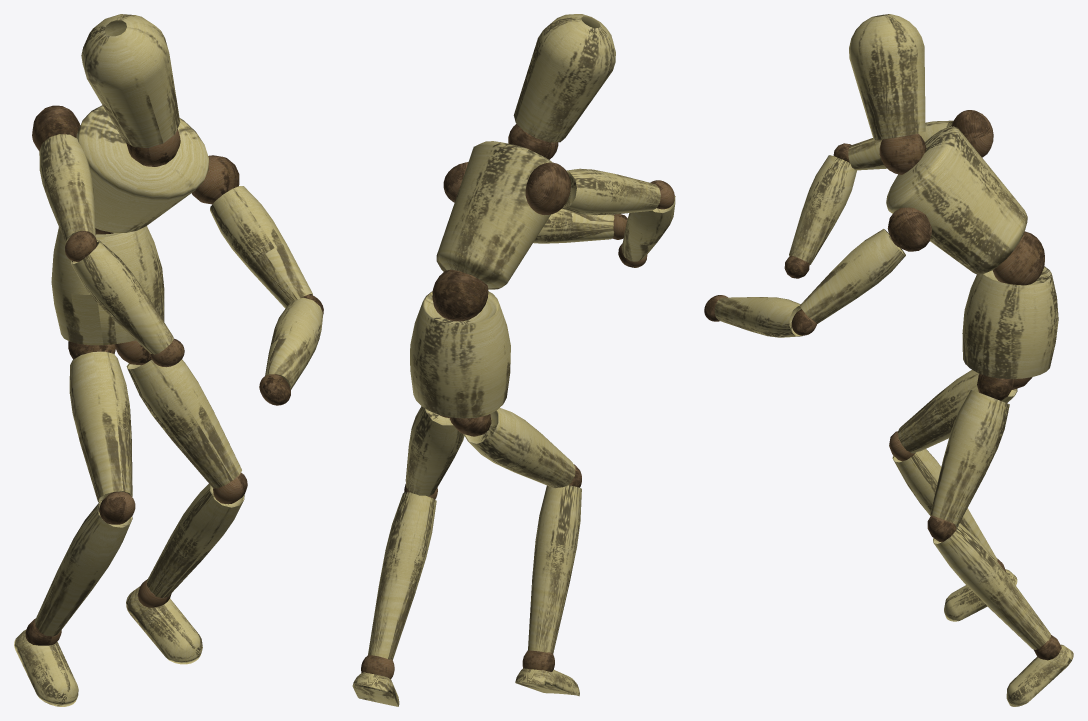
The model's file is pose3.obj.
The picture shows the model from 3 angles, left to right: view 1: azimuth 30°, elevation 25°; view 2: azimuth 150°, elevation 25°; view 3: azimuth 270°, elevation 25°; orthographic projection. The views are drawn at different scales.
Visible parts, largest first — view 1: polySurface3 polySurface8, polySurface3 polySurface6, polySurface3 polySurface14, polySurface3 polySurface20, polySurface4 polySurface3, polySurface3 polySurface29, polySurface3 polySurface11, polySurface3 polySurface22, polySurface3 polySurface17, polySurface3 polySurface24, polySurface3 polySurface27, polySurface3 polySurface15 (+11 smaller); view 2: polySurface3 polySurface6, polySurface4 polySurface3, polySurface3 polySurface8, polySurface3 polySurface11, polySurface3 polySurface17, polySurface3 polySurface14, polySurface3 polySurface24, polySurface3 polySurface20, polySurface3 polySurface5, polySurface3 polySurface27, polySurface3 polySurface25, polySurface3 polySurface22 (+7 smaller); view 3: polySurface3 polySurface6, polySurface4 polySurface3, polySurface3 polySurface8, polySurface3 polySurface20, polySurface3 polySurface17, polySurface3 polySurface29, polySurface3 polySurface22, polySurface3 polySurface14, polySurface3 polySurface27, polySurface3 polySurface11, polySurface3 polySurface15, polySurface3 polySurface5 (+6 smaller).
Boxes of the visible parts, x1,y1,x2,y2 form: polySurface3 polySurface8: (81, 14, 180, 147); polySurface3 polySurface6: (76, 105, 208, 232); polySurface3 polySurface14: (69, 351, 132, 504); polySurface3 polySurface20: (126, 359, 241, 488); polySurface4 polySurface3: (51, 226, 164, 345); polySurface3 polySurface29: (210, 186, 312, 308); polySurface3 polySurface11: (34, 499, 132, 636); polySurface3 polySurface22: (71, 240, 173, 354); polySurface3 polySurface17: (147, 484, 244, 597); polySurface3 polySurface24: (39, 134, 95, 242); polySurface3 polySurface27: (265, 297, 323, 389); polySurface3 polySurface15: (126, 586, 202, 664); polySurface3 polySurface6: (436, 141, 552, 289); polySurface4 polySurface3: (410, 291, 510, 418); polySurface3 polySurface8: (513, 14, 615, 142); polySurface3 polySurface11: (528, 485, 581, 653); polySurface3 polySurface17: (368, 492, 436, 660); polySurface3 polySurface14: (463, 408, 575, 488); polySurface3 polySurface24: (562, 168, 660, 215); polySurface3 polySurface20: (405, 406, 464, 496); polySurface3 polySurface5: (432, 269, 488, 321); polySurface3 polySurface27: (533, 209, 614, 243); polySurface3 polySurface25: (525, 162, 570, 215); polySurface3 polySurface22: (622, 195, 675, 261); polySurface3 polySurface6: (886, 126, 1027, 274); polySurface4 polySurface3: (962, 266, 1058, 378); polySurface3 polySurface8: (849, 14, 925, 139); polySurface3 polySurface20: (930, 390, 1009, 525); polySurface3 polySurface17: (933, 523, 1050, 649); polySurface3 polySurface29: (799, 229, 905, 323); polySurface3 polySurface22: (789, 155, 856, 264); polySurface3 polySurface14: (897, 370, 1017, 453); polySurface3 polySurface27: (714, 297, 802, 337); polySurface3 polySurface11: (892, 449, 997, 560); polySurface3 polySurface15: (1006, 644, 1073, 706); polySurface3 polySurface5: (992, 231, 1044, 285).
Size of the model in its own units: 1.14 by 3.35 by 1.78.
Materials: 1 (1 with a texture image).
